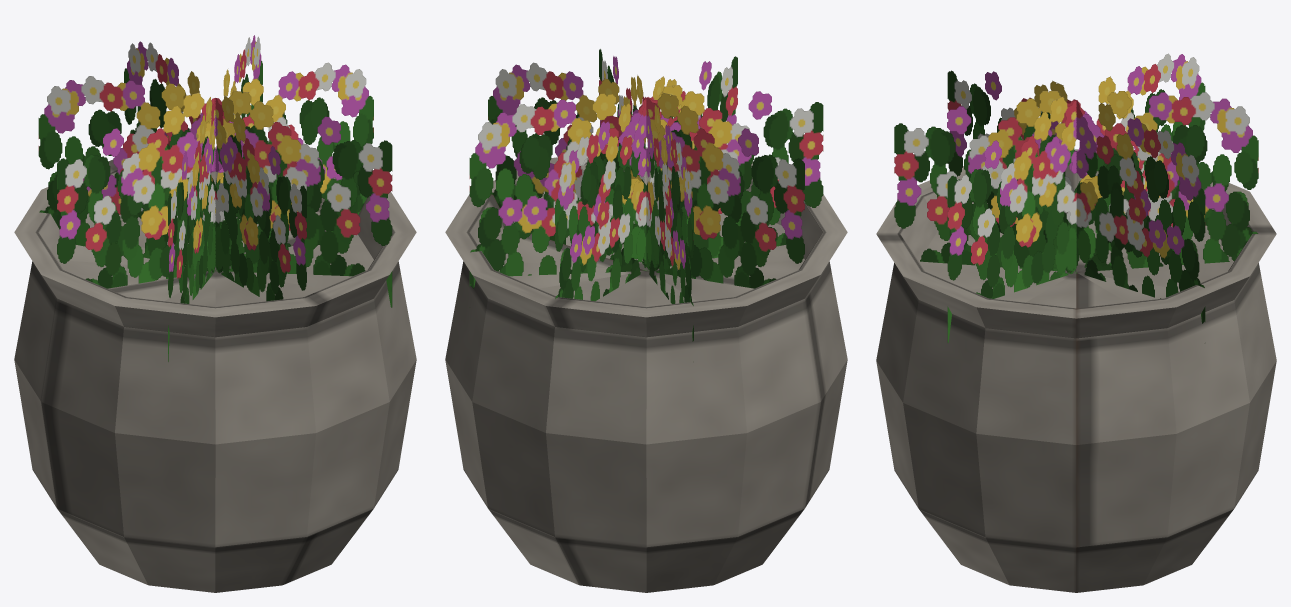
File: pot@s130.glb
The picture shows the model from 3 angles, left to right: view 1: azimuth 30°, elevation 25°; view 2: azimuth 150°, elevation 25°; view 3: azimuth 270°, elevation 25°; orthographic projection.
Visible parts, largest first — view 1: town_pot, town_pot_flowers; view 2: town_pot, town_pot_flowers; view 3: town_pot, town_pot_flowers.
Part boxes in pixels (x1=…): town_pot: x1=14, y1=147, x2=416, y2=592; town_pot_flowers: x1=38, y1=35, x2=392, y2=361; town_pot: x1=445, y1=147, x2=847, y2=592; town_pot_flowers: x1=469, y1=49, x2=823, y2=341; town_pot: x1=876, y1=149, x2=1276, y2=592; town_pot_flowers: x1=894, y1=53, x2=1258, y2=342.
Bounding box in the file's own units: 0.858 × 1.05 × 0.858.
2 materials, 2 textured.
